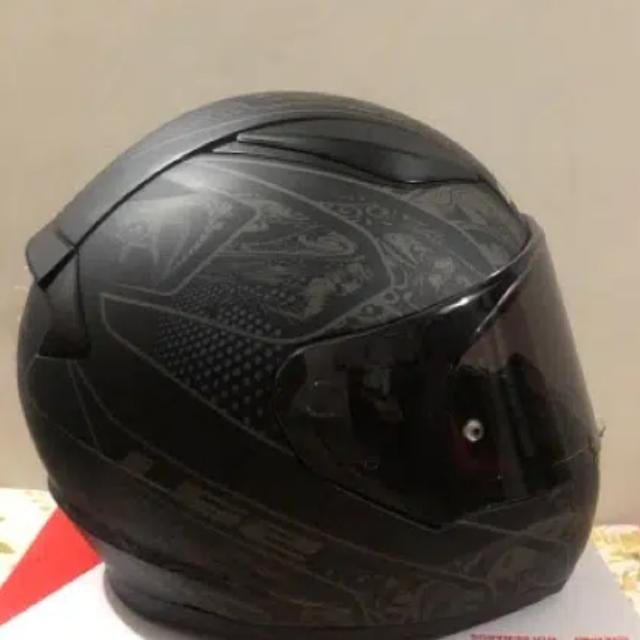Helmet: (45, 67, 608, 640)
